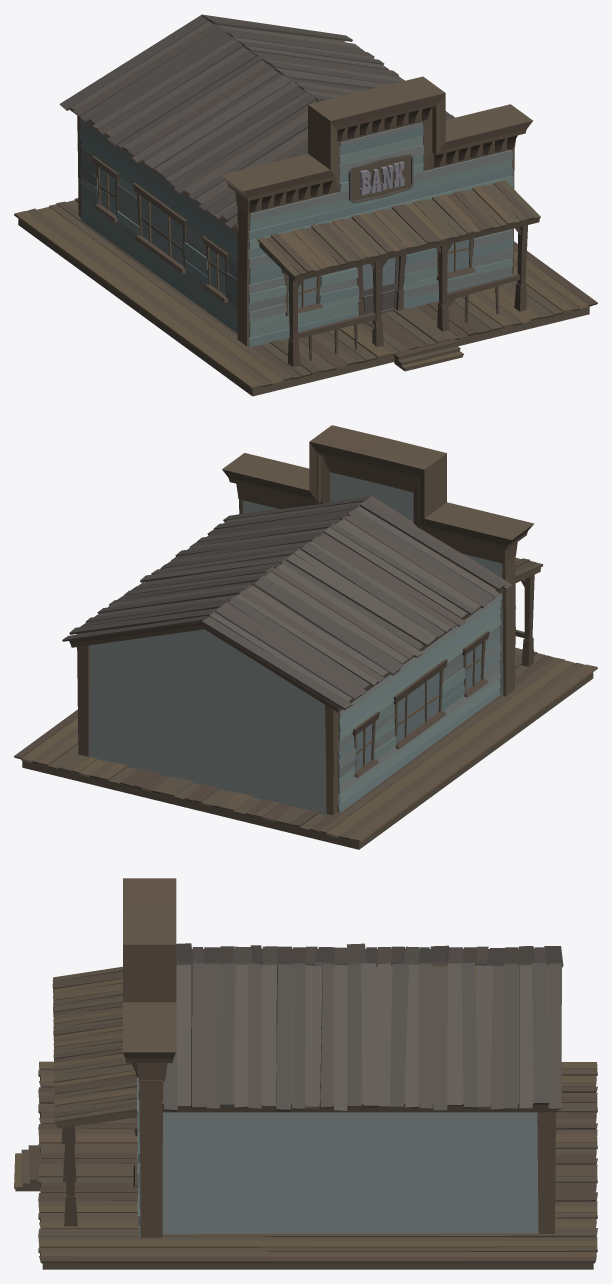
Rendered from export_banca_v01.fbx.
The picture shows the model from 3 angles, top to bottom: view 1: azimuth 30°, elevation 25°; view 2: azimuth 150°, elevation 25°; view 3: azimuth 270°, elevation 25°; orthographic projection. The views are drawn at different scales.
Parts seen in each view (by area): view 1: MSH_tetto, MSH_banca_muro_esterno, MSH_portico_esterno, MSH_cornice, MSH_porticciolo1, MSH_porticciolo, MSH_finestre4, MSH_scritta, MSH_porticciolo_staccionata, MSH_cornice1, MSH_finestre2, MSH_finestre3 (+5 smaller); view 2: MSH_tetto, MSH_banca_muro_esterno, MSH_portico_esterno, MSH_cornice, MSH_finestre4, MSH_manca_muro_esterno, MSH_banca_muro_interno, MSH_cornice1, MSH_finestre2, MSH_finestre3, MSH_porticciolo; view 3: MSH_tetto, MSH_banca_muro_esterno, MSH_portico_esterno, MSH_porticciolo1, MSH_cornice, MSH_cornice2, MSH_banca_muro_interno, MSH_porticciolo.
Part boxes in pixels (box(x1,y1,x2,y2)): MSH_tetto: box(59, 14, 454, 232); MSH_banca_muro_esterno: box(79, 118, 513, 346); MSH_portico_esterno: box(14, 198, 597, 396); MSH_cornice: box(221, 76, 532, 213); MSH_porticciolo1: box(257, 180, 540, 281); MSH_porticciolo: box(287, 225, 527, 367); MSH_finestre4: box(132, 183, 186, 273); MSH_scritta: box(348, 153, 413, 203); MSH_porticciolo_staccionata: box(297, 274, 519, 360); MSH_cornice1: box(237, 206, 250, 346); MSH_finestre2: box(202, 236, 228, 302); MSH_finestre3: box(92, 156, 119, 222); MSH_tetto: box(62, 496, 512, 712); MSH_banca_muro_esterno: box(89, 573, 515, 815); MSH_portico_esterno: box(14, 647, 597, 849); MSH_cornice: box(222, 425, 534, 563); MSH_finestre4: box(393, 659, 447, 749); MSH_manca_muro_esterno: box(243, 472, 503, 695); MSH_banca_muro_interno: box(77, 645, 338, 815); MSH_cornice1: box(502, 555, 515, 696); MSH_finestre2: box(462, 631, 489, 697); MSH_finestre3: box(352, 711, 379, 777); MSH_porticciolo: box(521, 574, 534, 666); MSH_tetto: box(162, 943, 563, 1112); MSH_banca_muro_esterno: box(137, 1077, 538, 1236); MSH_portico_esterno: box(14, 1061, 597, 1269); MSH_porticciolo1: box(52, 966, 137, 1128); MSH_cornice: box(123, 878, 176, 1081); MSH_cornice2: box(139, 1080, 163, 1237); MSH_banca_muro_interno: box(537, 1112, 555, 1233); MSH_porticciolo: box(61, 1126, 77, 1226).
Size of the model in its own units: 220 by 136 by 273.
